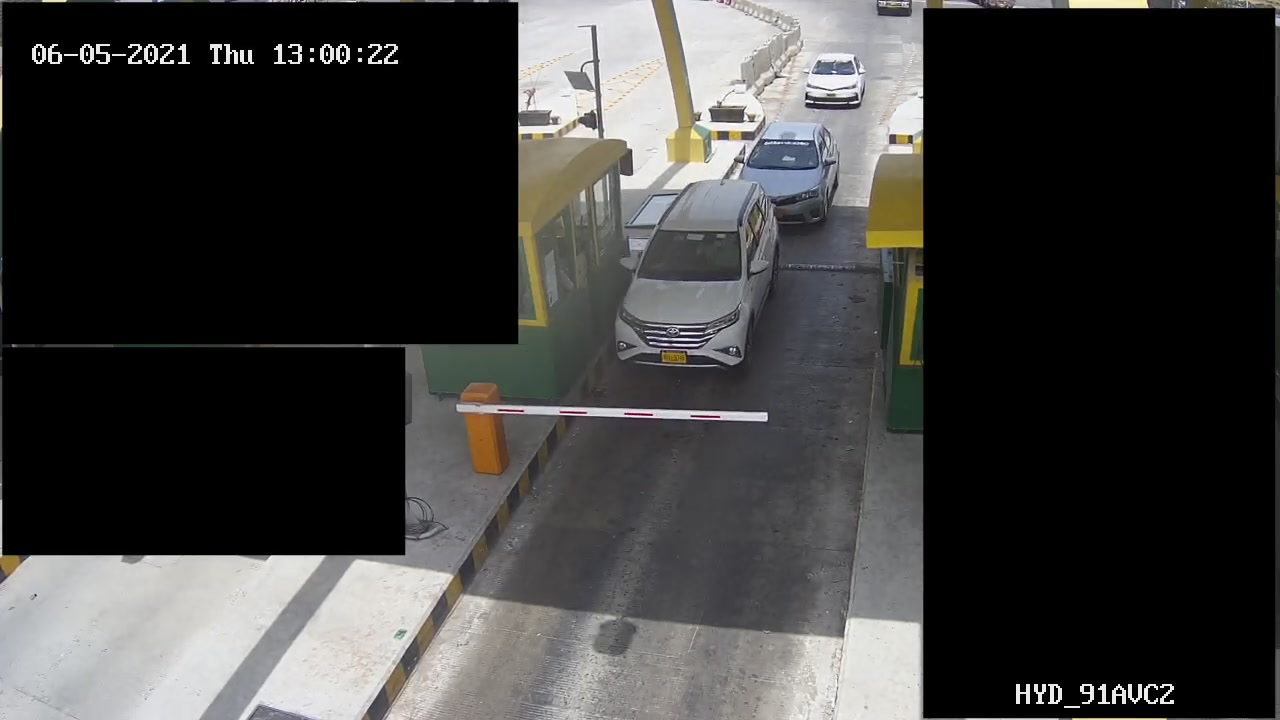F1: (608, 176, 786, 372)
